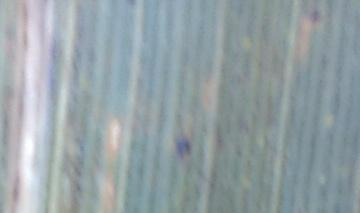tarspot: (175, 137, 191, 159), (310, 9, 321, 24)
